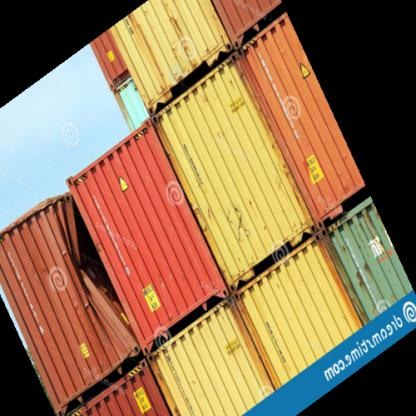Damage: (56, 183, 146, 359), (225, 197, 262, 238)
